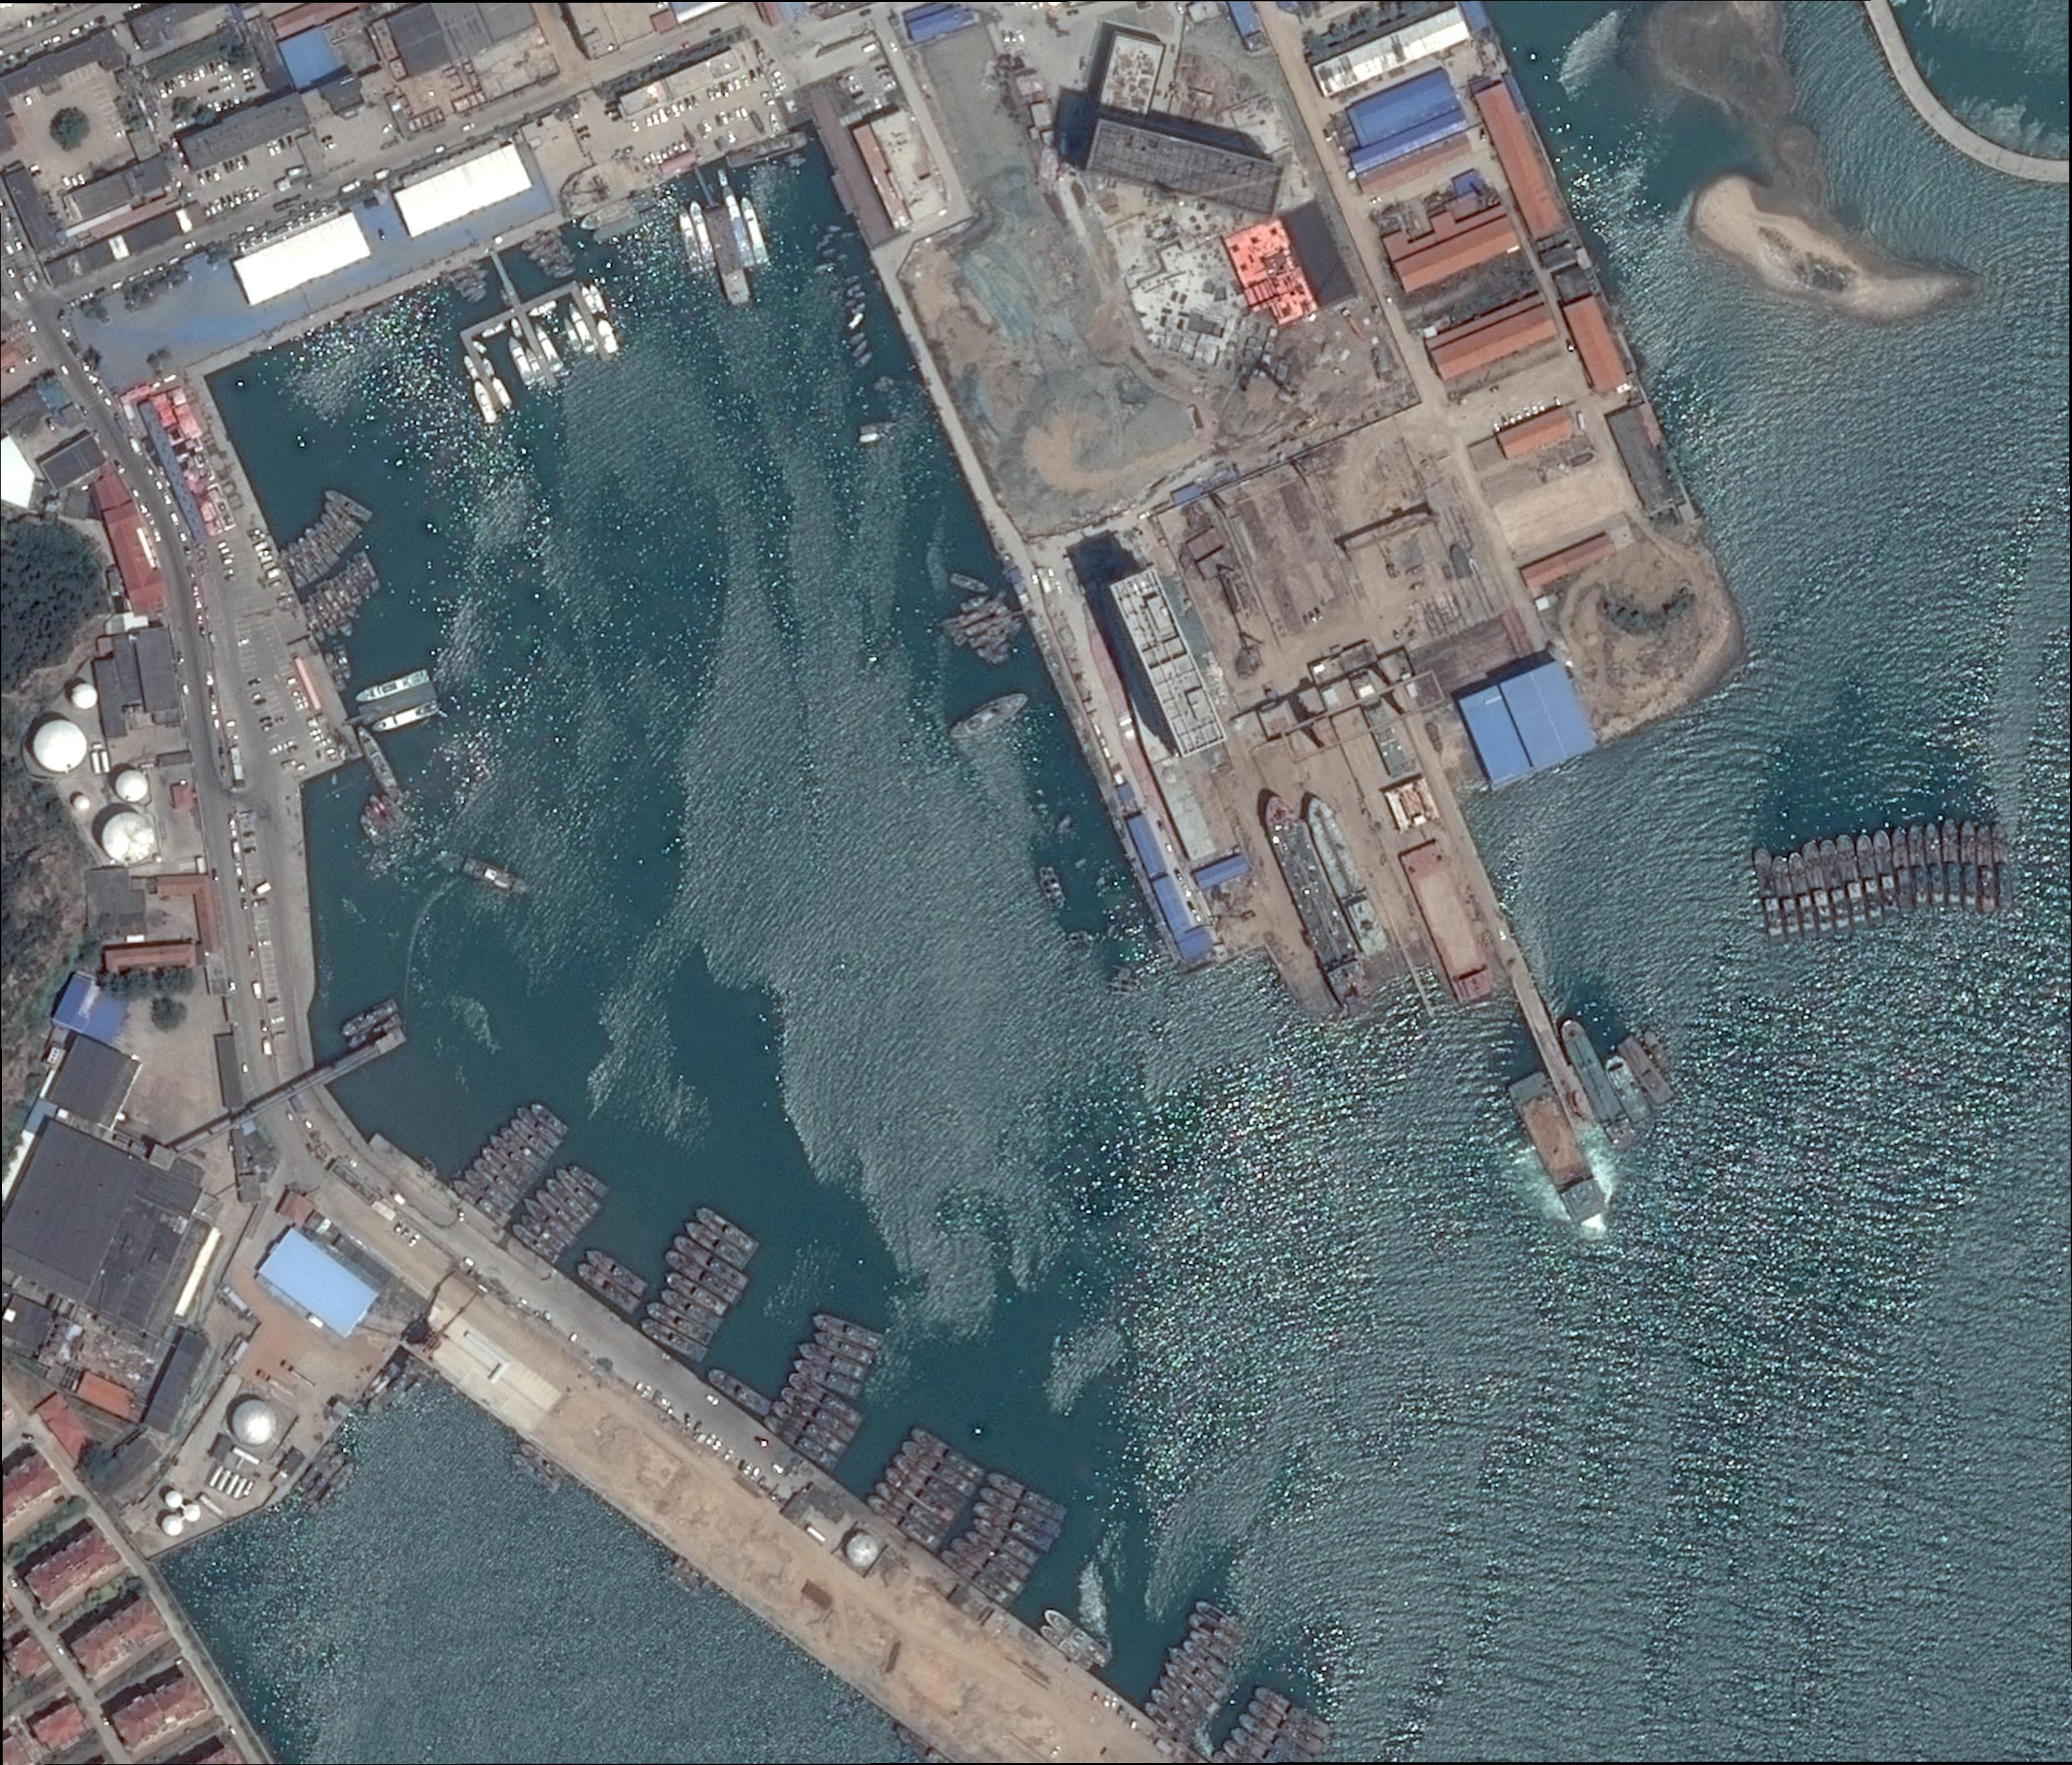harbor: (1496, 942, 1598, 1136), (317, 1028, 406, 1086), (462, 336, 504, 411), (518, 312, 558, 385), (570, 289, 611, 361)
ship: (1253, 790, 1377, 1007), (1510, 1072, 1610, 1226), (1300, 793, 1389, 956), (1556, 1017, 1636, 1147), (936, 1544, 1017, 1609), (702, 201, 753, 303), (880, 1462, 959, 1527), (663, 1245, 744, 1308), (900, 1436, 977, 1501), (949, 1532, 1025, 1595), (873, 1478, 950, 1541), (779, 1383, 856, 1445), (864, 1492, 941, 1553), (787, 1369, 864, 1431), (983, 1469, 1069, 1523), (977, 1483, 1062, 1537), (1251, 1683, 1332, 1740), (1041, 1604, 1113, 1669), (892, 1452, 968, 1513), (949, 688, 1031, 744), (971, 1497, 1054, 1553), (770, 1397, 847, 1457), (672, 1233, 751, 1290), (763, 1411, 838, 1471), (908, 1424, 983, 1483), (1246, 1698, 1323, 1756), (1615, 1037, 1675, 1105), (1236, 1711, 1313, 1763), (576, 187, 658, 236), (969, 1513, 1039, 1569), (1167, 1644, 1232, 1704), (963, 1525, 1031, 1581), (354, 723, 404, 798), (574, 1259, 640, 1315), (691, 1203, 760, 1257), (681, 1217, 749, 1271), (705, 1364, 772, 1418), (795, 1336, 870, 1383), (639, 1315, 709, 1366), (1817, 839, 1853, 935), (583, 1243, 647, 1297), (1162, 1658, 1222, 1716), (1603, 1054, 1652, 1124), (1752, 847, 1787, 946), (644, 1297, 714, 1347), (791, 1355, 864, 1401), (1801, 840, 1834, 939), (656, 1283, 723, 1333), (726, 131, 810, 170), (520, 1194, 579, 1248), (812, 1310, 886, 1354), (665, 1269, 730, 1318), (485, 1131, 542, 1185), (450, 1175, 509, 1227), (1853, 833, 1886, 926), (1155, 1672, 1213, 1725), (1836, 833, 1867, 930), (354, 667, 431, 706), (462, 856, 532, 898), (721, 186, 756, 270), (1141, 1698, 1199, 1749), (541, 1175, 595, 1227), (478, 1143, 534, 1194), (1038, 1621, 1096, 1670), (1787, 851, 1818, 940), (471, 1156, 525, 1206), (1146, 1684, 1202, 1733), (592, 207, 661, 245), (294, 1439, 341, 1495), (1179, 1637, 1236, 1684), (553, 1164, 604, 1215), (534, 1185, 585, 1236), (513, 1103, 565, 1152), (812, 1327, 875, 1368), (1183, 1614, 1242, 1656), (1873, 828, 1901, 918), (462, 1166, 515, 1213), (303, 1452, 348, 1506), (369, 700, 439, 735), (1773, 856, 1803, 939), (315, 580, 357, 637), (497, 1124, 548, 1171), (338, 998, 397, 1038), (508, 1115, 556, 1163), (366, 1369, 415, 1417), (1228, 1725, 1292, 1761), (508, 1220, 560, 1264), (509, 1450, 562, 1494), (1890, 826, 1916, 914), (518, 1210, 567, 1255), (738, 196, 770, 266), (347, 1014, 403, 1052), (688, 198, 718, 270), (676, 203, 705, 273), (315, 1460, 357, 1509), (516, 1439, 567, 1480), (1185, 1623, 1236, 1663), (322, 487, 374, 524), (1908, 823, 1930, 907), (1923, 823, 1946, 907), (1941, 819, 1962, 905), (1193, 1599, 1241, 1635), (1978, 826, 1997, 912), (362, 1362, 403, 1403), (529, 1100, 570, 1138), (569, 1161, 611, 1199), (326, 574, 360, 620), (1960, 821, 1978, 911), (506, 334, 536, 385), (1993, 823, 2011, 909), (322, 501, 362, 538), (567, 303, 597, 352), (308, 592, 339, 637), (287, 539, 319, 583), (304, 527, 339, 566), (534, 322, 562, 369), (1642, 1030, 1671, 1072), (471, 380, 499, 424), (297, 536, 329, 574), (355, 552, 383, 594), (320, 511, 354, 546), (322, 651, 348, 693), (280, 548, 306, 590), (301, 602, 327, 644), (522, 226, 562, 252), (313, 520, 345, 553), (949, 571, 991, 595), (347, 562, 373, 601), (367, 793, 396, 826), (357, 812, 383, 847), (527, 238, 563, 263), (595, 317, 620, 354), (339, 569, 364, 606), (453, 266, 490, 291), (542, 252, 576, 277), (523, 347, 544, 383), (362, 804, 387, 835), (492, 376, 515, 410), (446, 261, 481, 282), (380, 793, 404, 823), (536, 247, 567, 270), (334, 643, 352, 679), (562, 317, 581, 350), (458, 277, 490, 296), (588, 282, 607, 312), (579, 285, 599, 313), (529, 299, 556, 319), (959, 594, 989, 611), (481, 322, 508, 340), (462, 354, 480, 380), (465, 289, 490, 306), (553, 264, 576, 280), (481, 357, 497, 376), (511, 317, 523, 338), (472, 340, 487, 354)
